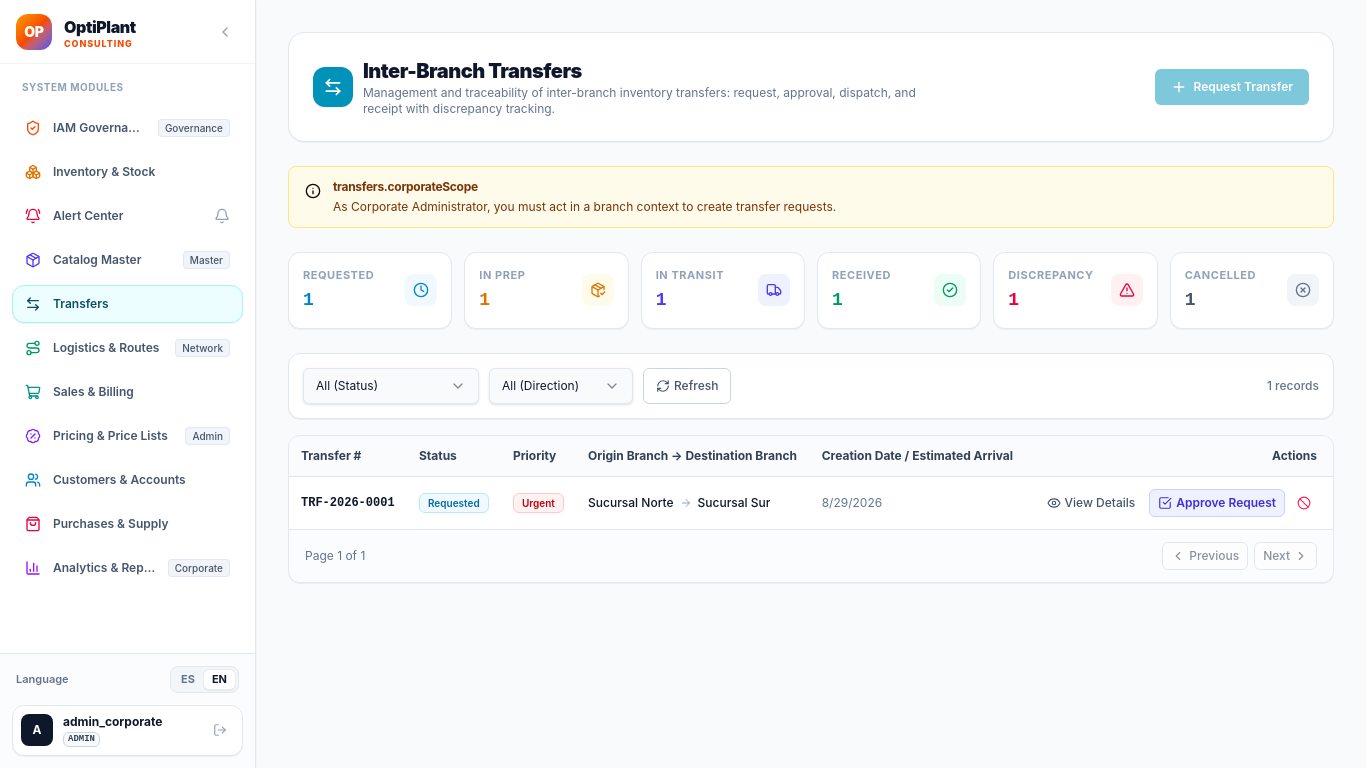
Scenario: TransfersDashboard Component Tests › opens Transfer Detail Dialog when View Details is clicked
The image size is (1366, 768).
Click the button titled "View Details": (1091, 502) [1038,488,1143,516]
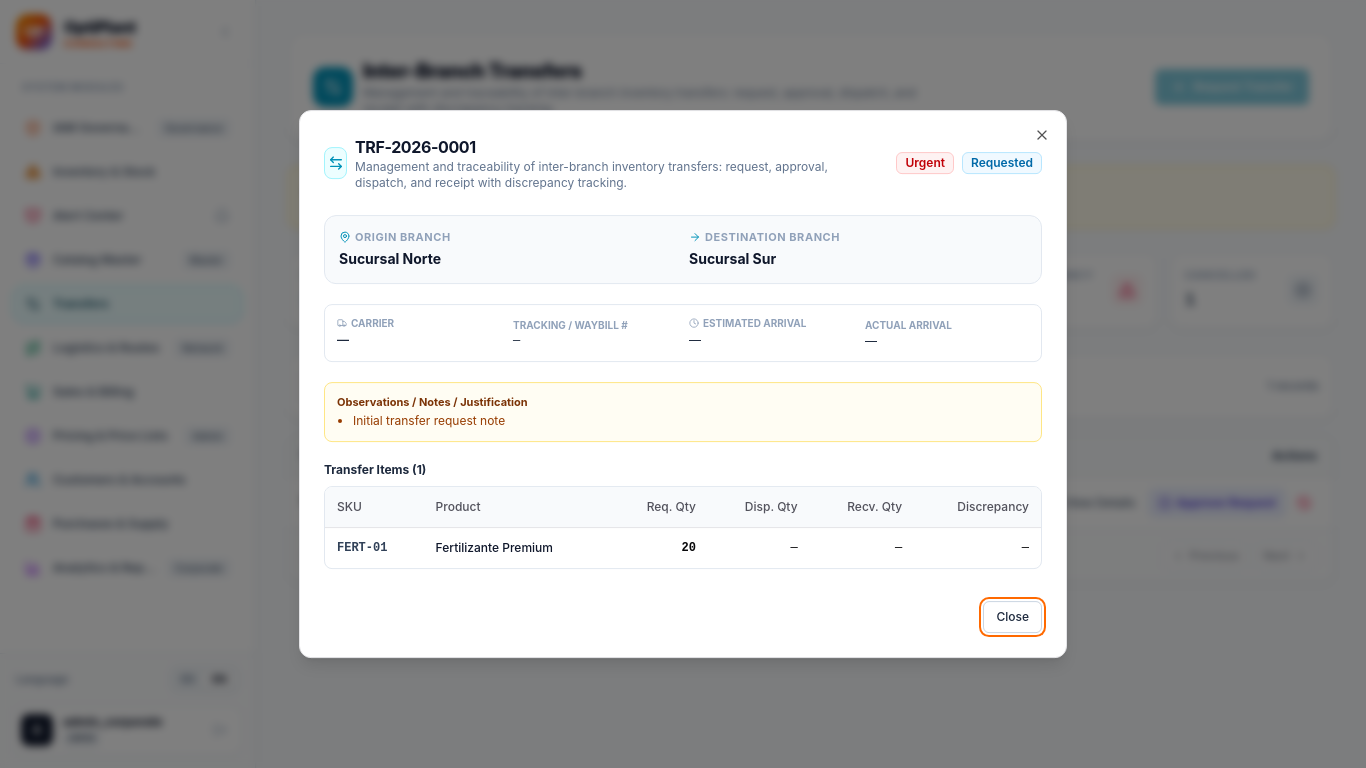
Expected: the list item "Initial transfer request note" is shown, [353,413,505,428]
